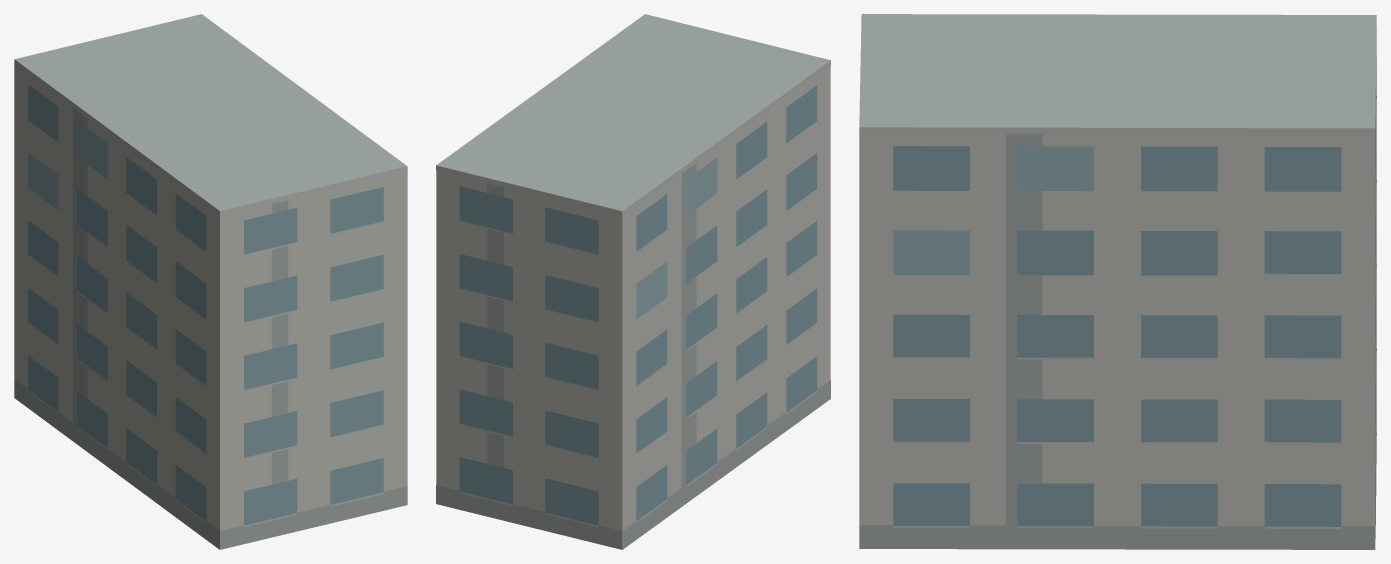
File: survey-upis-32923509.glb
3 renders of one model, left to right at view 1: azimuth 30°, elevation 25°; view 2: azimuth 150°, elevation 25°; view 3: azimuth 270°, elevation 25°, orthographic. The views are drawn at different scales.
Parts seen in each view (by area): view 1: survey-upis-32923509.tmp; view 2: survey-upis-32923509.tmp; view 3: survey-upis-32923509.tmp.
Boxes of the visible parts, x1,y1,x2,y2 form: survey-upis-32923509.tmp: (14, 14, 407, 549); survey-upis-32923509.tmp: (436, 14, 830, 549); survey-upis-32923509.tmp: (859, 14, 1376, 549).
Size of the model in its own units: 8.89 by 15.25 by 16.98.
